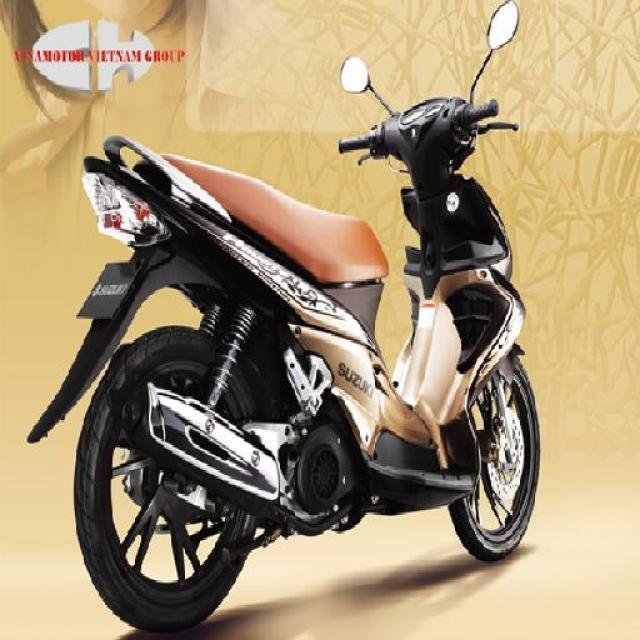All: (26, 92, 553, 636)
Head: (336, 98, 523, 175)
Tail: (76, 132, 187, 245)
